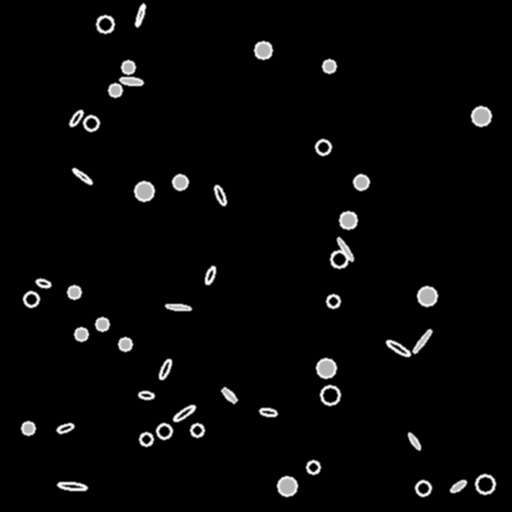pseudomonas: (411, 328, 433, 354), (335, 236, 355, 262), (385, 338, 411, 358), (172, 404, 196, 422), (71, 167, 93, 185), (220, 386, 238, 404), (158, 358, 172, 380), (134, 3, 146, 27), (68, 109, 84, 127), (213, 185, 227, 205), (58, 481, 86, 491), (449, 479, 467, 493), (407, 432, 421, 450), (204, 265, 216, 285), (119, 76, 143, 86), (56, 422, 74, 434), (165, 303, 191, 311), (35, 277, 51, 289), (259, 407, 277, 417), (138, 391, 154, 399)
synechocystis: (278, 477, 296, 495), (135, 182, 153, 200), (321, 386, 339, 404), (472, 107, 490, 125), (476, 475, 494, 493), (418, 287, 436, 305), (317, 359, 335, 377), (331, 251, 347, 267), (97, 16, 113, 32), (255, 42, 271, 58), (340, 212, 356, 228), (173, 175, 187, 189), (416, 481, 430, 495), (84, 116, 98, 130), (24, 292, 38, 306), (157, 424, 171, 438), (316, 140, 330, 154), (354, 175, 368, 189), (307, 461, 319, 473), (122, 61, 134, 73), (140, 433, 152, 445), (109, 84, 121, 96), (68, 286, 80, 298), (191, 424, 203, 436), (119, 338, 131, 350), (22, 422, 34, 434), (327, 295, 339, 307), (323, 60, 335, 72), (96, 318, 108, 330), (75, 328, 87, 340)
